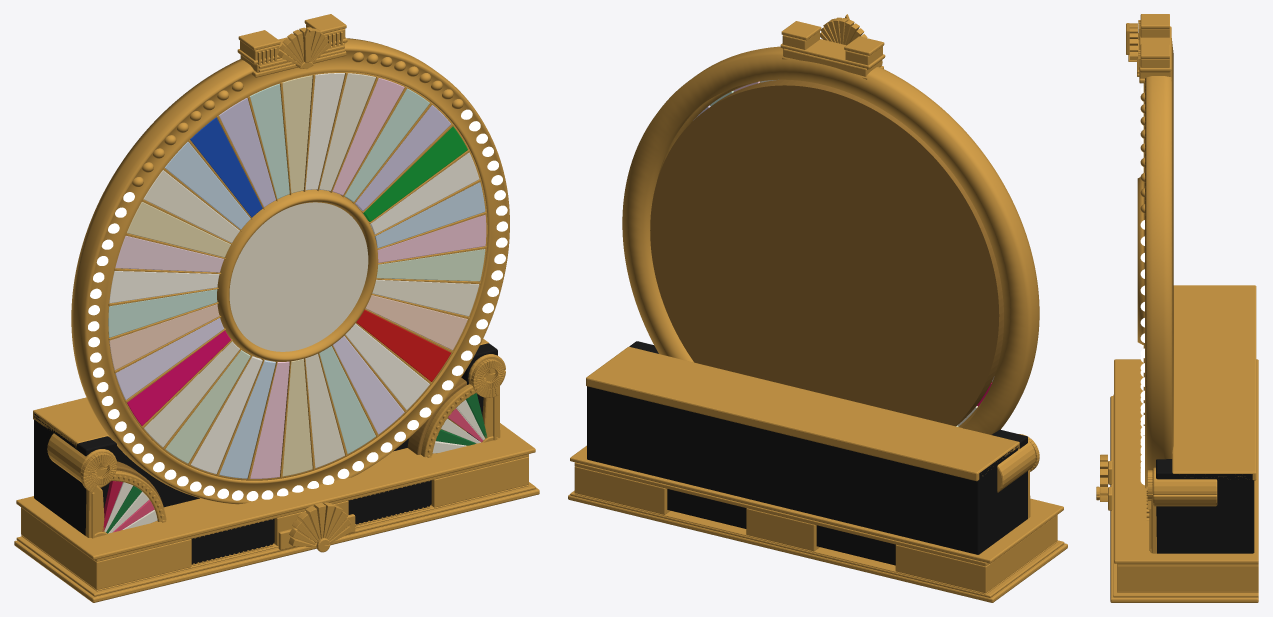
The model's file is PrizeWheel.fbx.
The picture shows the model from 3 angles, left to right: view 1: azimuth 30°, elevation 25°; view 2: azimuth 150°, elevation 25°; view 3: azimuth 270°, elevation 25°; orthographic projection. The views are drawn at different scales.
Parts seen in each view (by area): view 1: Rim_Ring, Hub_Disc, Base_Cap, Wheel_Dividers, Base_Frieze, Hub_Ring, Base_Slab, Base_Body, Base_Step, Wedge_31, Wedge_30, Wedge_32 (+47 smaller); view 2: Wheel_Backing, Base_Body, Rim_Ring, Base_TopMolding, Base_Frieze, Base_Cap, Base_Body_Ends, Base_Slab, Base_Step, Crest_Base, Bracket_ScrollPad_L, Crest_Fan (+2 smaller); view 3: Base_TopMolding, Rim_Ring, Base_Cap, Base_Body, Base_Frieze, Base_Body_Ends, Bracket_ScrollPad_R, Base_Slab, Base_Step, Hub_Ring, Crest_Block_R, Crest_Block_L (+4 smaller).
Boxes of the visible parts, <box> form: Rim_Ring: <box>71,38,509,504</box>; Hub_Disc: <box>229,202,368,351</box>; Base_Cap: <box>16,423,535,559</box>; Wheel_Dividers: <box>108,72,486,479</box>; Base_Frieze: <box>21,454,528,591</box>; Hub_Ring: <box>217,189,378,361</box>; Base_Slab: <box>14,487,539,602</box>; Base_Body: <box>34,416,408,519</box>; Base_Step: <box>16,482,535,596</box>; Wedge_31: <box>143,170,239,243</box>; Wedge_30: <box>127,202,230,257</box>; Wedge_32: <box>165,142,250,229</box>; Wheel_Backing: <box>650,79,1003,426</box>; Base_Body: <box>587,386,1017,565</box>; Rim_Ring: <box>622,46,1039,434</box>; Base_TopMolding: <box>586,346,1019,481</box>; Base_Frieze: <box>574,462,1057,594</box>; Base_Cap: <box>570,445,1063,563</box>; Base_Body_Ends: <box>587,341,1027,554</box>; Base_Slab: <box>568,494,1067,602</box>; Base_Step: <box>570,490,1064,597</box>; Crest_Base: <box>780,39,885,79</box>; Bracket_ScrollPad_L: <box>997,440,1035,492</box>; Crest_Fan: <box>820,17,867,45</box>; Base_TopMolding: <box>1172,285,1256,480</box>; Rim_Ring: <box>1143,38,1173,488</box>; Base_Cap: <box>1114,359,1258,563</box>; Base_Body: <box>1177,477,1254,553</box>; Base_Frieze: <box>1117,563,1258,592</box>; Base_Body_Ends: <box>1156,459,1254,553</box>; Bracket_ScrollPad_R: <box>1152,467,1217,506</box>; Base_Slab: <box>1110,396,1258,602</box>; Base_Step: <box>1113,394,1258,597</box>; Hub_Ring: <box>1137,177,1143,344</box>; Crest_Block_R: <box>1140,44,1169,72</box>; Crest_Block_L: <box>1140,14,1169,37</box>.
Bounding box in the file's own units: 2.1 × 2.3 × 0.708.
